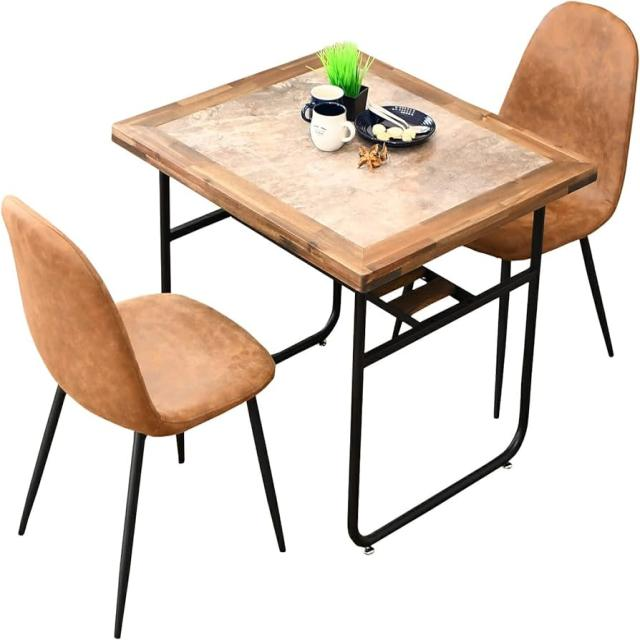vintage chair: (4, 183, 291, 640), (497, 0, 628, 377)
vintage desk: (109, 41, 552, 520)
